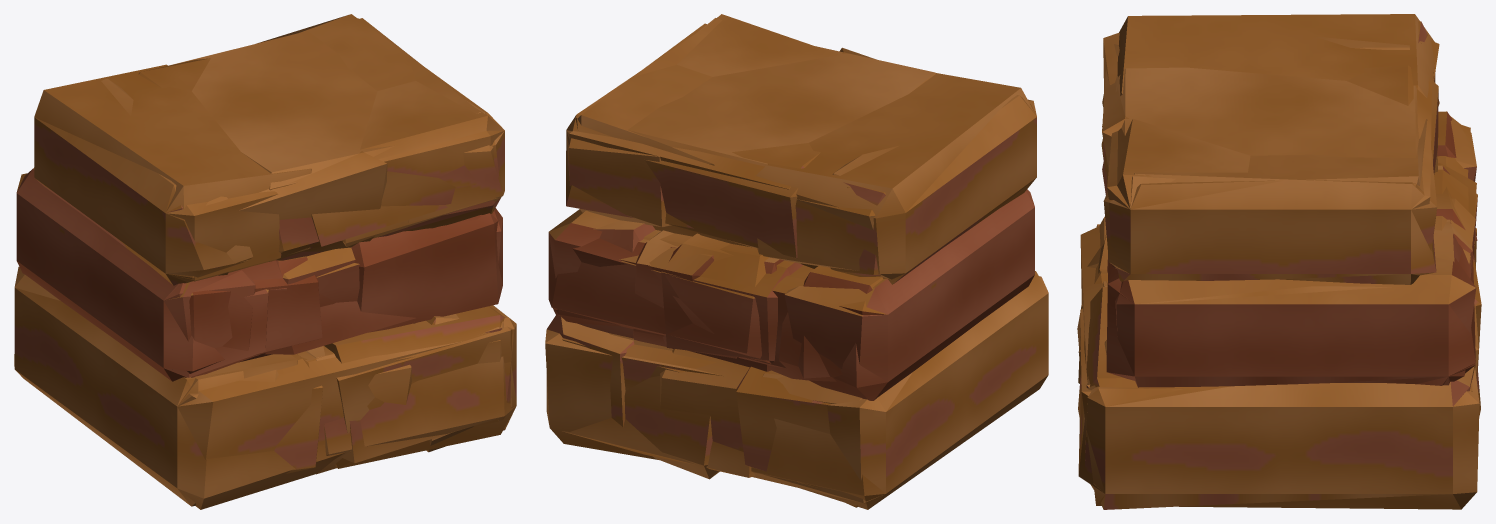
The model's file is border.glb.
3 renders of one model, left to right at view 1: azimuth 30°, elevation 25°; view 2: azimuth 150°, elevation 25°; view 3: azimuth 270°, elevation 25°, orthographic. The views are drawn at different scales.
Visible parts, largest first — view 1: border_0, border_1, border_2, border_4, border_3; view 2: border_0, border_1, border_2, border_4, border_3; view 3: border_0, border_1, border_2, border_3, border_4.
Part boxes in pixels (bbox=[...]): border_0: bbox=[14, 58, 516, 487]; border_1: bbox=[14, 14, 516, 506]; border_2: bbox=[164, 18, 504, 509]; border_4: bbox=[17, 81, 515, 473]; border_3: bbox=[14, 18, 515, 498]; border_0: bbox=[548, 18, 1048, 493]; border_1: bbox=[545, 23, 1048, 509]; border_2: bbox=[547, 46, 1047, 503]; border_4: bbox=[566, 14, 1036, 488]; border_3: bbox=[548, 18, 912, 507]; border_0: bbox=[1080, 36, 1477, 493]; border_1: bbox=[1080, 14, 1479, 509]; border_2: bbox=[1077, 42, 1478, 406]; border_3: bbox=[1078, 41, 1476, 493]; border_4: bbox=[1078, 21, 1481, 509].
Bounding box in the file's own units: 1 × 0.8873 × 0.9656.
1 material, 1 textured.
